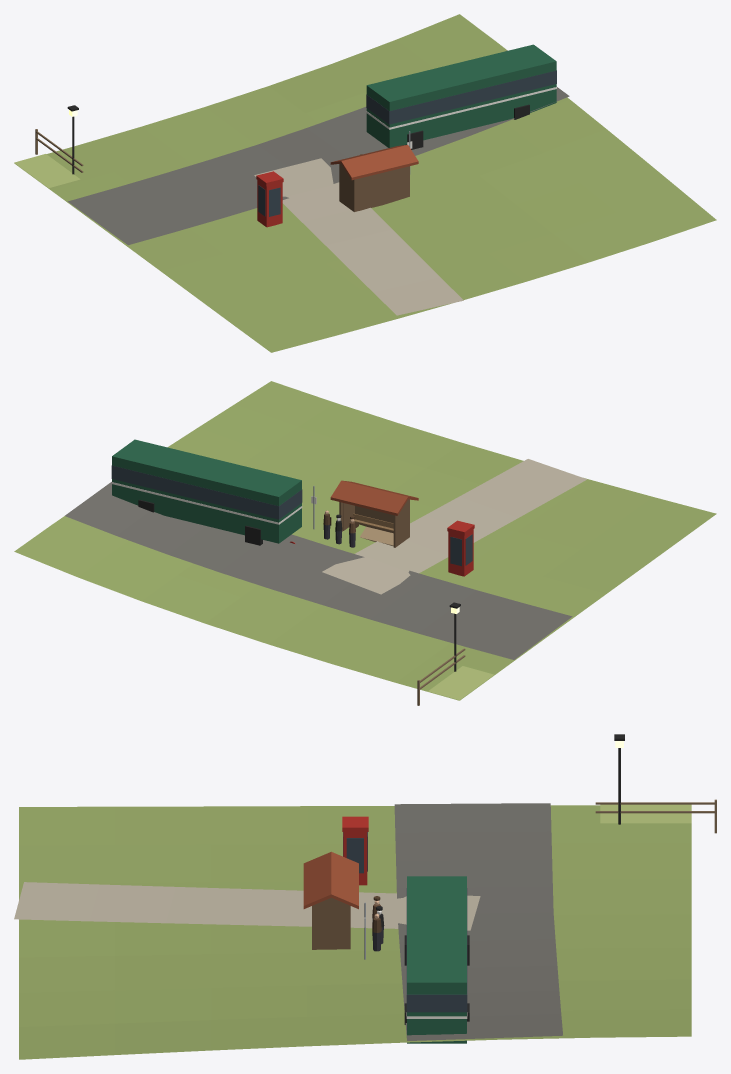
File: bus_stop-evening.glb
3 renders of one model, top to bottom at view 1: azimuth 30°, elevation 25°; view 2: azimuth 150°, elevation 25°; view 3: azimuth 270°, elevation 25°, orthographic. The views are drawn at different scales.
Visible parts, largest first — view 1: ground, ground_lanes, prop_hopper, bus_shelter_shell, cut_roof_bus_shelter, prop_phonebox, ground_areas; view 2: ground, ground_lanes, prop_hopper, cut_roof_bus_shelter, prop_phonebox, bus_shelter_shell, ground_areas; view 3: ground, ground_lanes, prop_hopper, cut_roof_bus_shelter, bus_shelter_shell, ground_areas, prop_phonebox, boundaries.
Boxes of the visible parts, x1,y1,x2,y2 form: ground: (14, 14, 716, 352); ground_lanes: (67, 50, 569, 315); prop_hopper: (366, 44, 556, 149); bus_shelter_shell: (339, 163, 409, 211); cut_roof_bus_shelter: (330, 145, 418, 180); prop_phonebox: (256, 171, 283, 227); ground_areas: (14, 154, 80, 187); ground: (14, 381, 716, 700); ground_lanes: (65, 459, 586, 659); prop_hopper: (111, 439, 302, 545); cut_roof_bus_shelter: (330, 480, 418, 515); prop_phonebox: (447, 520, 474, 576); bus_shelter_shell: (339, 499, 409, 547); ground_areas: (428, 666, 493, 699); ground: (19, 805, 691, 1059); ground_lanes: (14, 803, 562, 1040); prop_hopper: (404, 876, 469, 1043); cut_roof_bus_shelter: (303, 851, 358, 909); bus_shelter_shell: (312, 897, 350, 949); ground_areas: (600, 804, 691, 823); prop_phonebox: (342, 816, 368, 885); boundaries: (595, 799, 716, 833).
Size of the model in its own units: 28.11 by 4.89 by 29.26.
